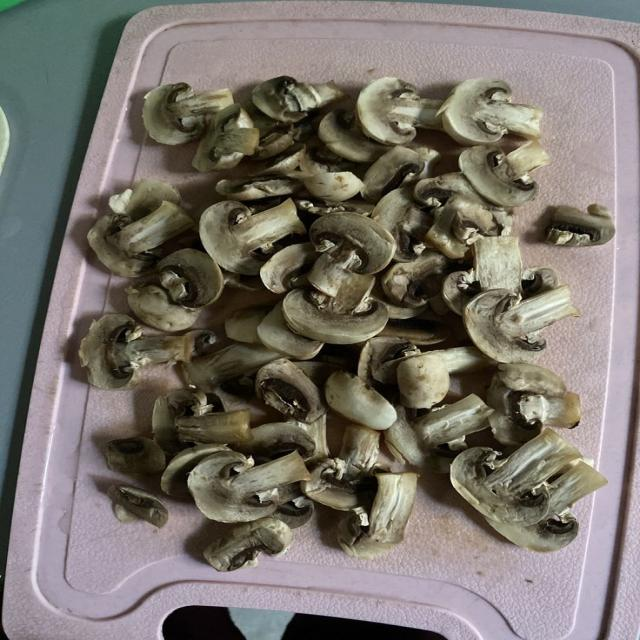champignon mushrooms: (451, 430, 580, 525), (487, 461, 606, 551), (80, 314, 215, 388), (441, 236, 558, 315), (463, 286, 579, 362), (188, 451, 308, 522), (414, 173, 511, 258), (87, 201, 194, 277), (200, 199, 306, 274), (127, 249, 223, 331), (283, 272, 388, 344), (487, 364, 579, 445), (307, 213, 395, 296), (438, 78, 542, 145), (338, 473, 417, 559), (301, 425, 379, 510), (441, 236, 523, 315), (459, 141, 550, 207), (396, 347, 494, 408), (357, 77, 441, 144), (383, 406, 466, 473), (143, 83, 233, 144), (426, 196, 510, 259), (204, 518, 292, 571), (184, 344, 281, 392), (372, 186, 433, 262), (193, 104, 259, 171), (256, 359, 326, 422), (361, 147, 440, 202), (414, 395, 493, 449), (252, 76, 345, 121), (325, 372, 396, 429), (153, 388, 212, 456), (300, 458, 376, 510), (158, 249, 223, 309), (381, 250, 449, 307), (257, 303, 323, 359), (318, 110, 388, 162), (126, 284, 200, 331), (161, 444, 229, 495), (358, 336, 420, 384), (383, 406, 431, 467), (396, 353, 449, 408), (109, 179, 180, 220), (234, 423, 314, 459), (260, 243, 317, 293), (547, 204, 614, 246), (175, 409, 252, 445), (107, 485, 167, 527), (106, 437, 166, 474), (216, 175, 304, 200), (339, 425, 380, 478), (379, 318, 450, 347), (288, 414, 329, 462), (303, 171, 363, 202), (273, 484, 313, 529), (250, 144, 306, 176), (300, 147, 357, 177), (225, 307, 269, 344), (295, 198, 373, 215), (0, 107, 10, 174)
